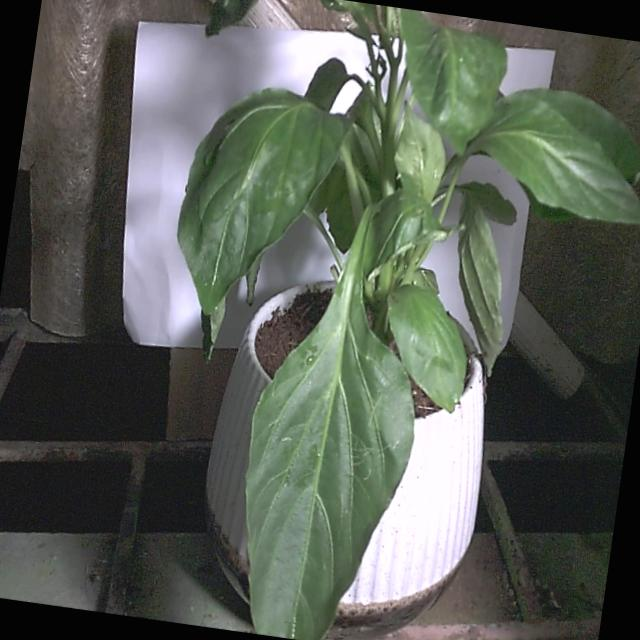Leaf: (221, 299, 432, 640), (160, 75, 354, 368), (467, 81, 640, 233), (378, 8, 512, 164), (372, 278, 478, 413)
